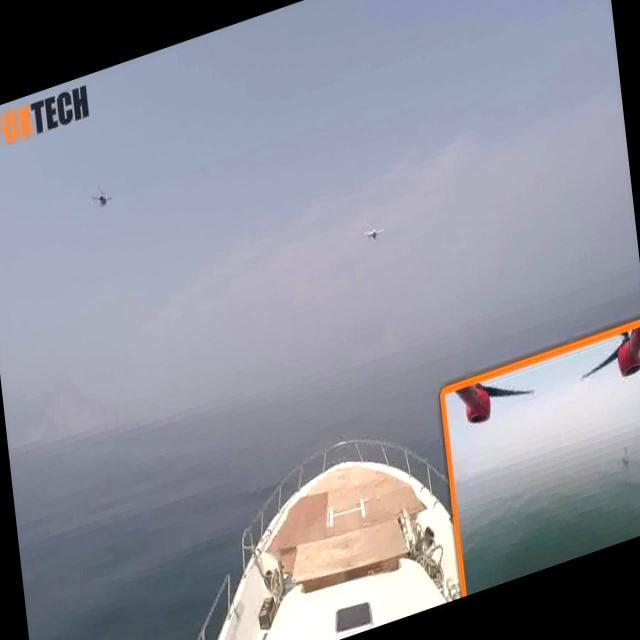drone: (84, 182, 114, 216), (361, 218, 386, 248)
